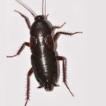cockroach: (27, 13, 61, 92)
